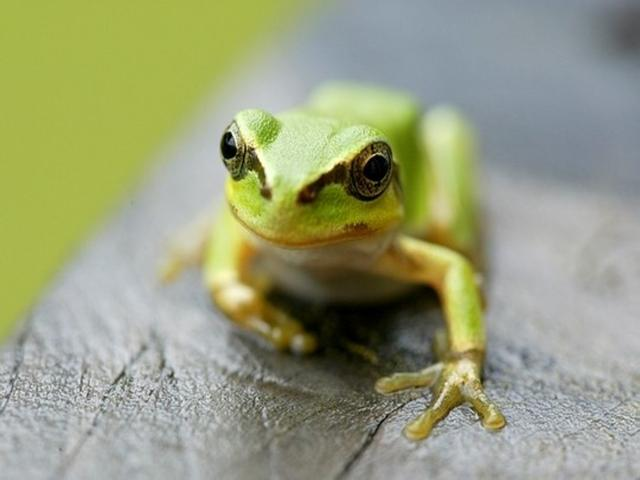frog: (145, 60, 546, 451)
